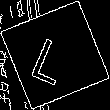L_NE: (31, 26, 79, 84)
